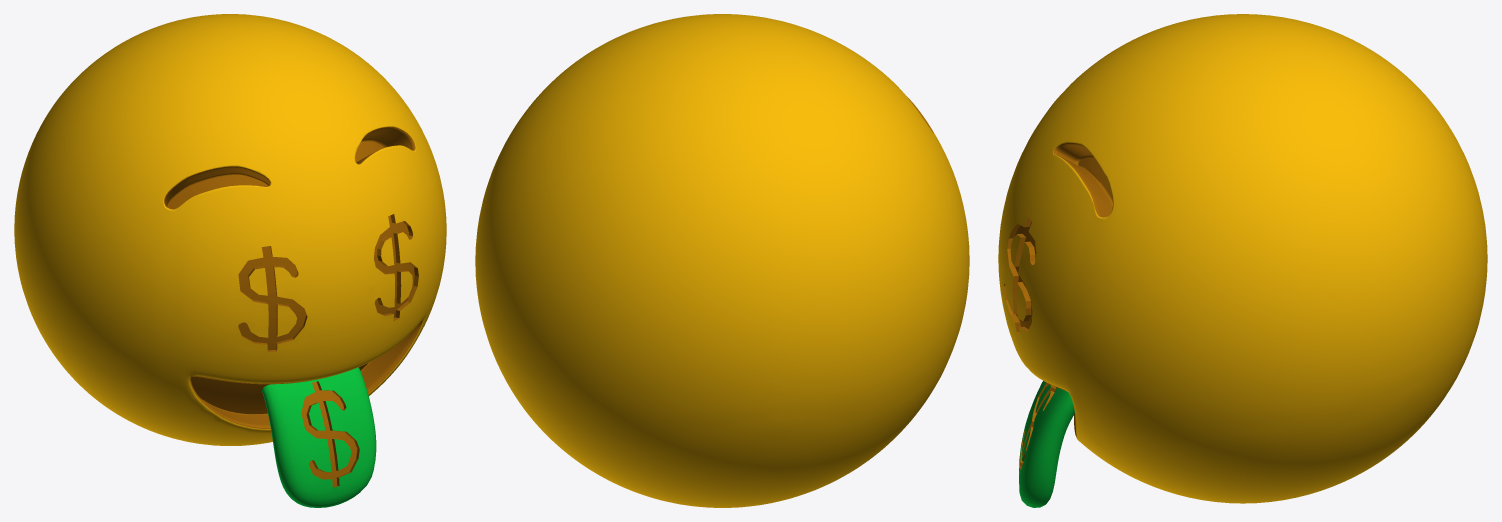
Rendered from greedy_emoji.glb.
3 views of the same model, side by side, from view 1: azimuth 30°, elevation 25°; view 2: azimuth 150°, elevation 25°; view 3: azimuth 270°, elevation 25° (orthographic). The views are drawn at different scales.
Parts seen in each view (by area): view 1: Apple Money-Mouth Face; view 2: Apple Money-Mouth Face; view 3: Apple Money-Mouth Face.
Part boxes in pixels (x1,y1,x2,y2): Apple Money-Mouth Face: (14, 14, 446, 507); Apple Money-Mouth Face: (475, 14, 969, 507); Apple Money-Mouth Face: (998, 14, 1487, 507).
Size of the model in its own units: 0.0253 by 0.0262 by 0.0253.
